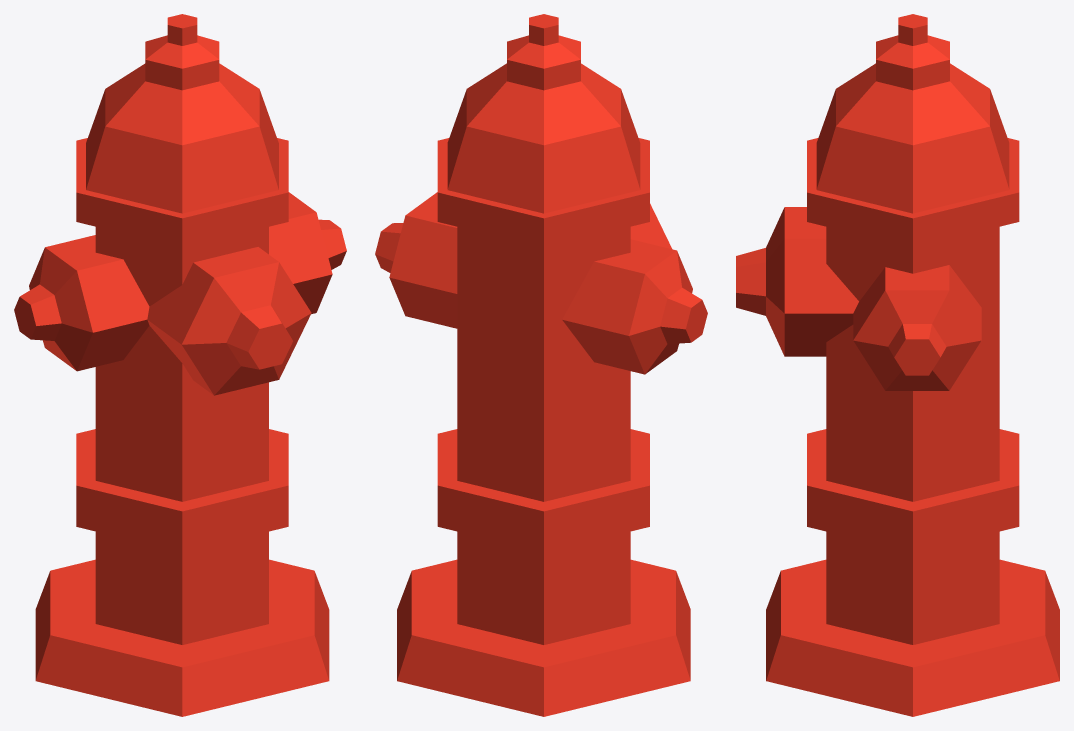
Rendered from Hydrant.fbx.
3 views of the same model, side by side, from view 1: azimuth 30°, elevation 25°; view 2: azimuth 150°, elevation 25°; view 3: azimuth 270°, elevation 25° (orthographic).
Parts seen in each view (by area): view 1: Hydrant; view 2: Hydrant; view 3: Hydrant.
Part boxes in pixels (left/top/right/bottom): Hydrant: left=14, top=14, right=346, bottom=716; Hydrant: left=375, top=14, right=707, bottom=716; Hydrant: left=736, top=14, right=1059, bottom=716.
Size of the model in its own units: 0.7441 by 1.43 by 0.6724.
Materials: 1 (1 with a texture image).
